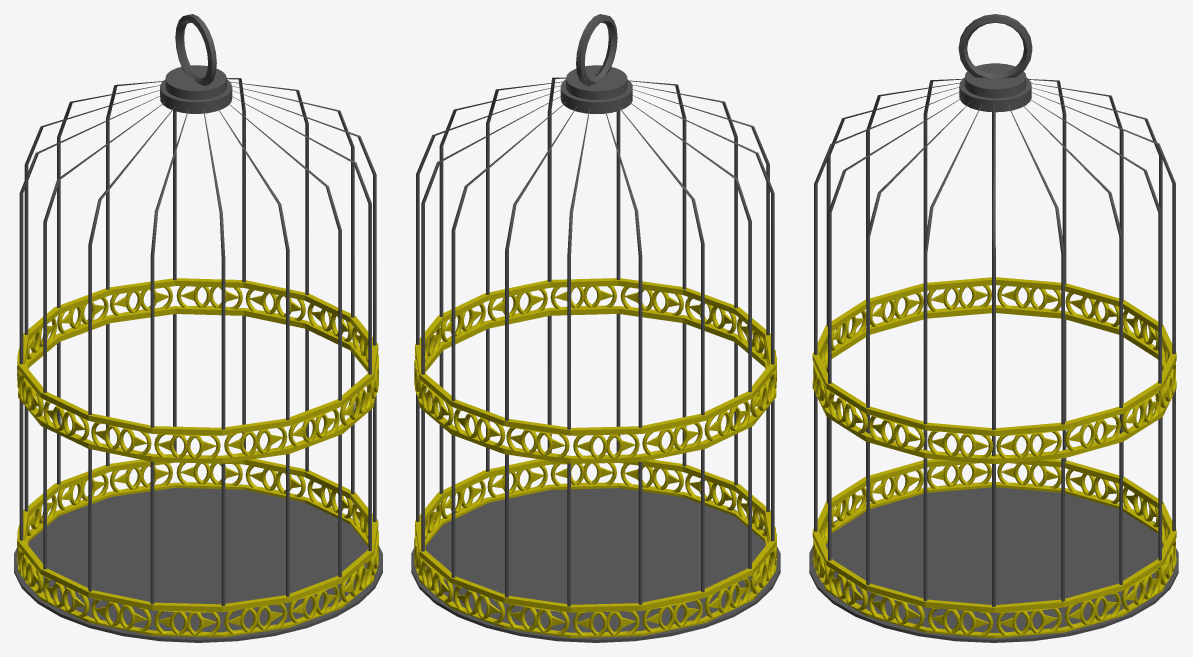
File: Birdcage.fbx
3 views of the same model, side by side, from view 1: azimuth 30°, elevation 25°; view 2: azimuth 150°, elevation 25°; view 3: azimuth 270°, elevation 25° (orthographic).
Parts seen in each view (by area): view 1: pCylinder40; view 2: pCylinder40; view 3: pCylinder40.
Boxes of the visible parts, x1,y1,x2,y2 form: pCylinder40: (14, 14, 382, 642); pCylinder40: (411, 14, 780, 642); pCylinder40: (809, 14, 1178, 642).
Size of the model in its own units: 13.45 by 21.91 by 13.38.
